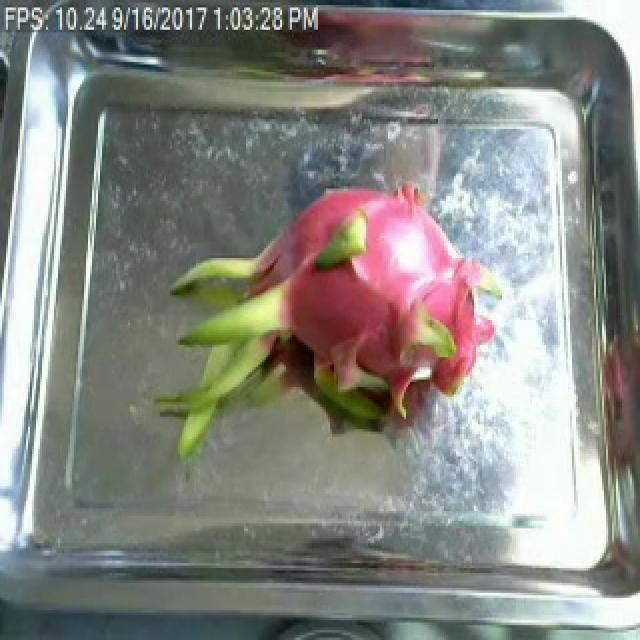fruit: (142, 159, 492, 481)
